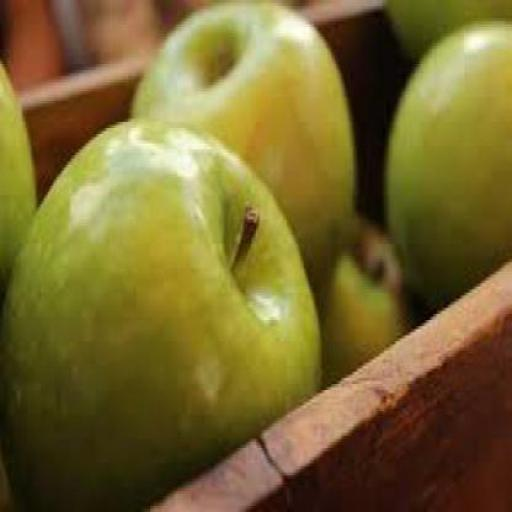biodegradable: (0, 116, 321, 510), (124, 0, 357, 262), (380, 12, 511, 306), (315, 217, 415, 390), (0, 55, 38, 296), (377, 0, 510, 55)
